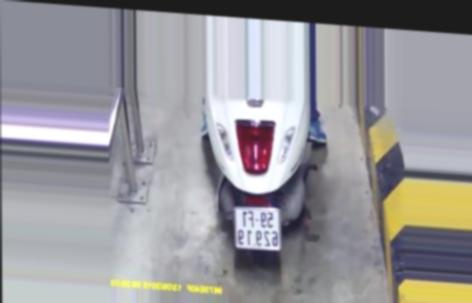License_Plate: (230, 204, 282, 255)
